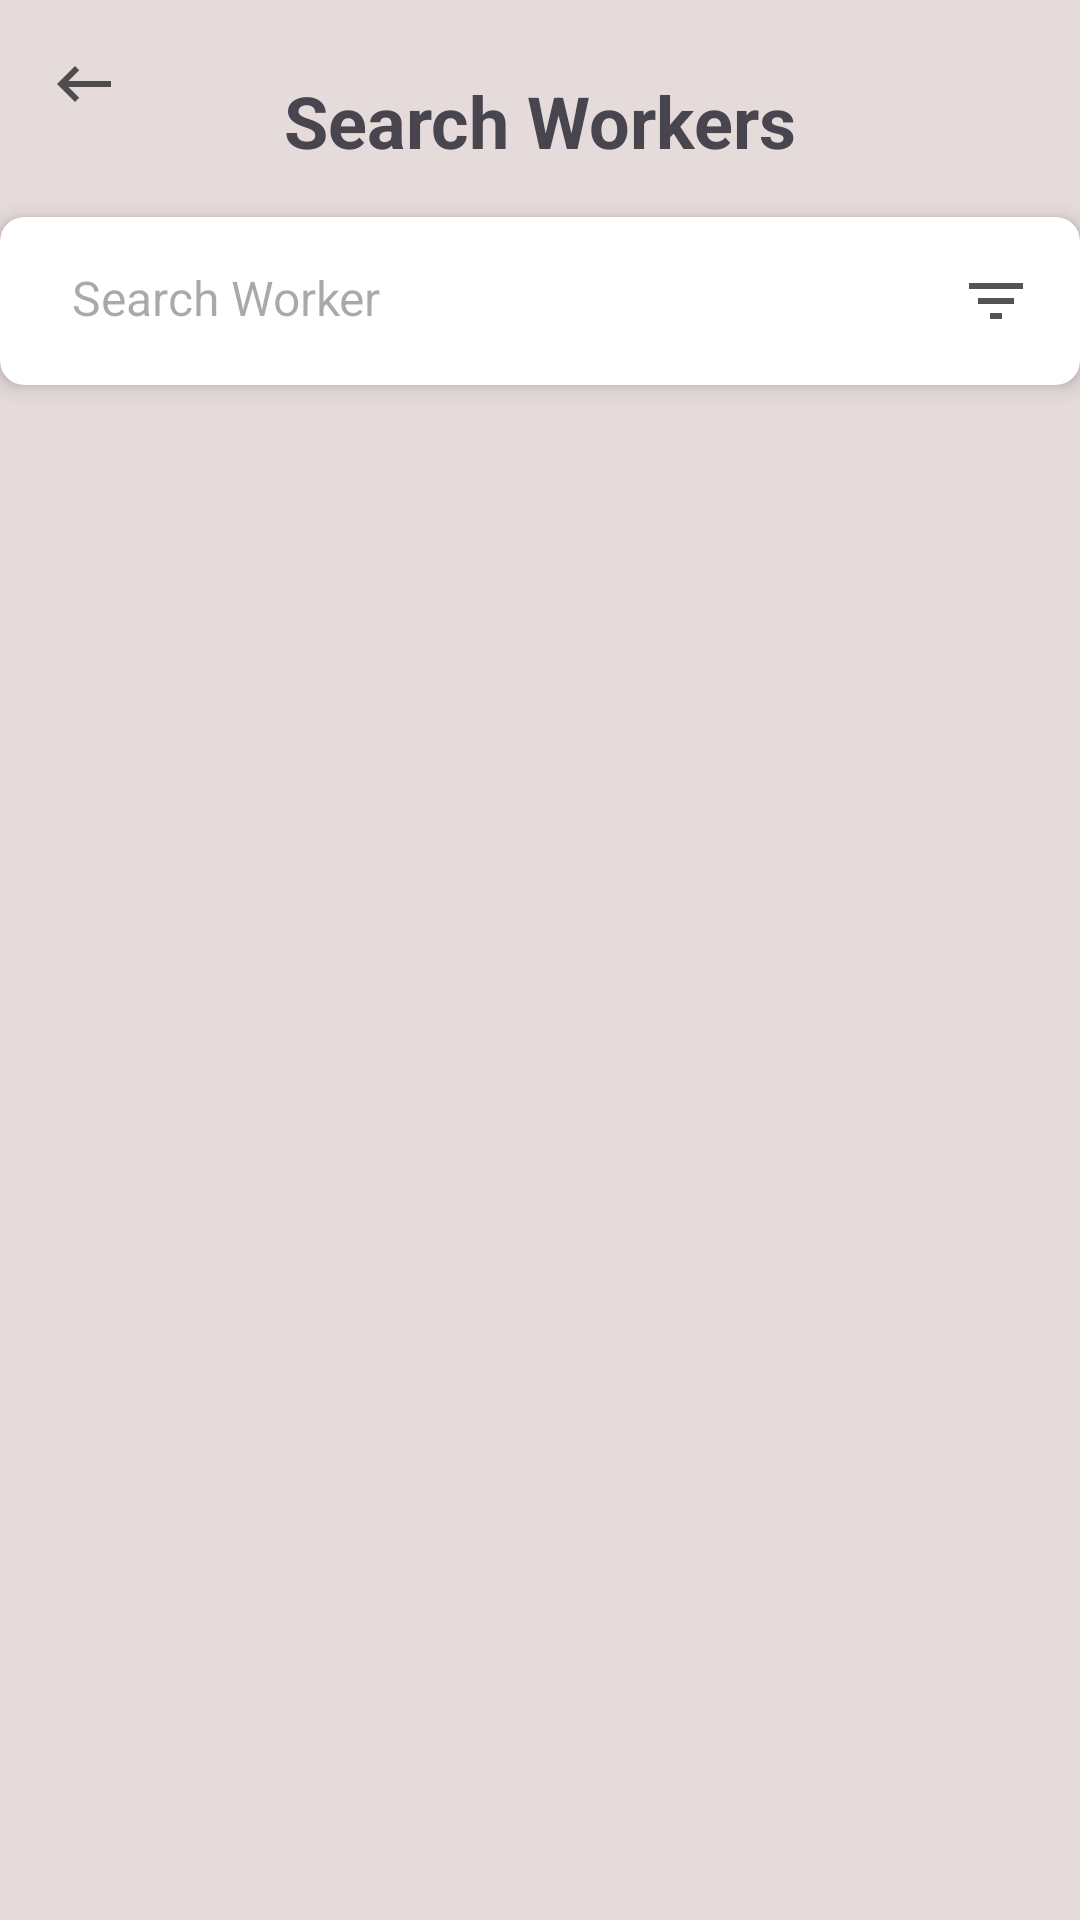

Screen size 1080×1920. Icon name, then its center in pixels as [x,y]:
backarrow: [84,84]
filter: [996,301]
